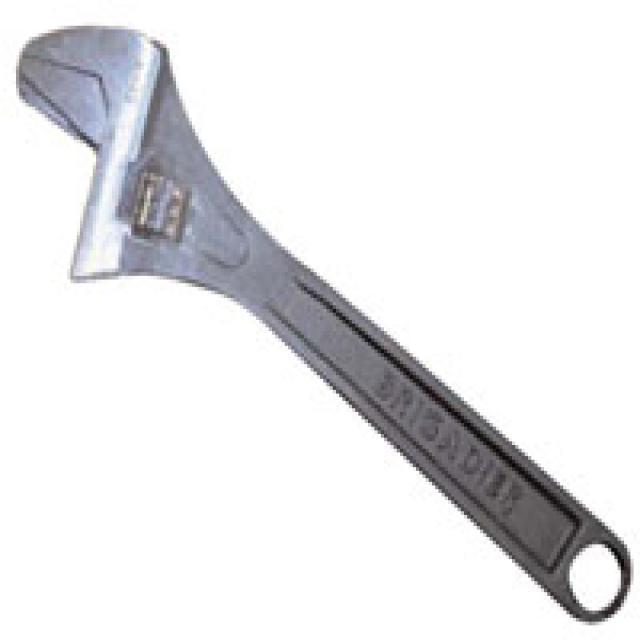wrench: (11, 18, 630, 624)
